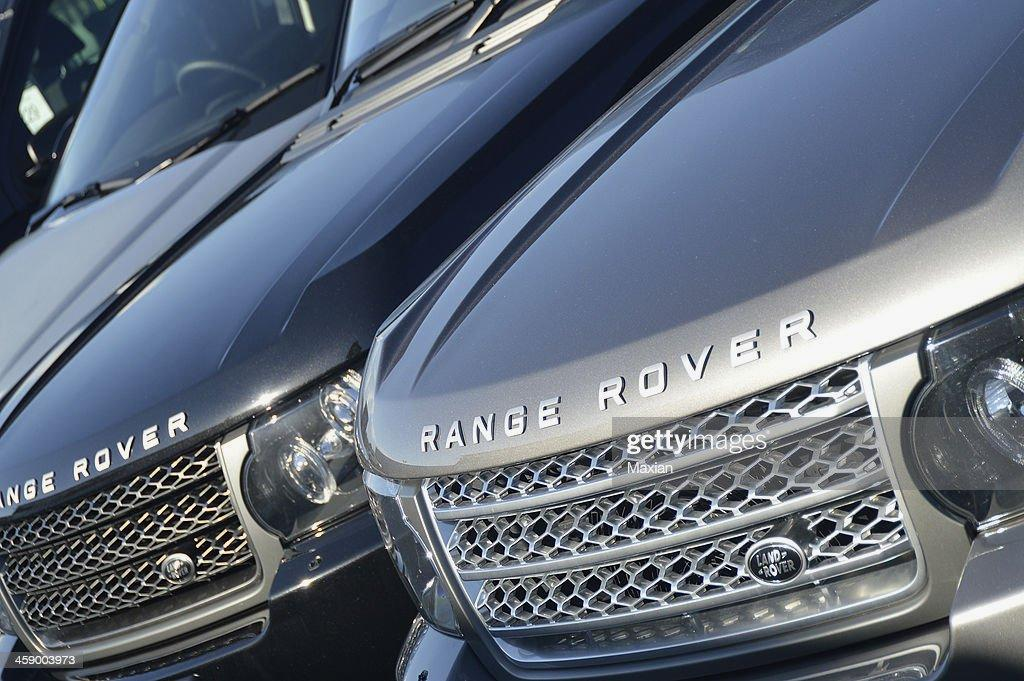range rover: (397, 283, 859, 470), (0, 392, 209, 531)
